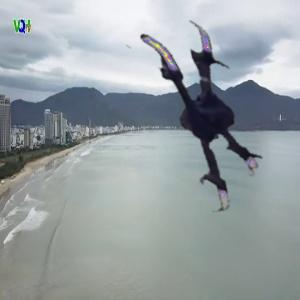drone: (93, 24, 283, 214)
